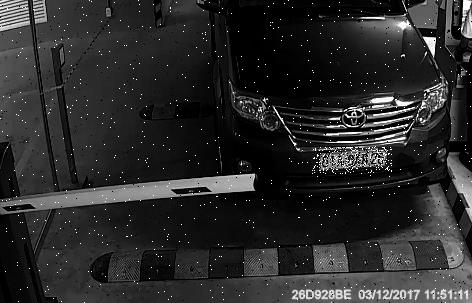License-plate: (313, 148, 393, 175)
